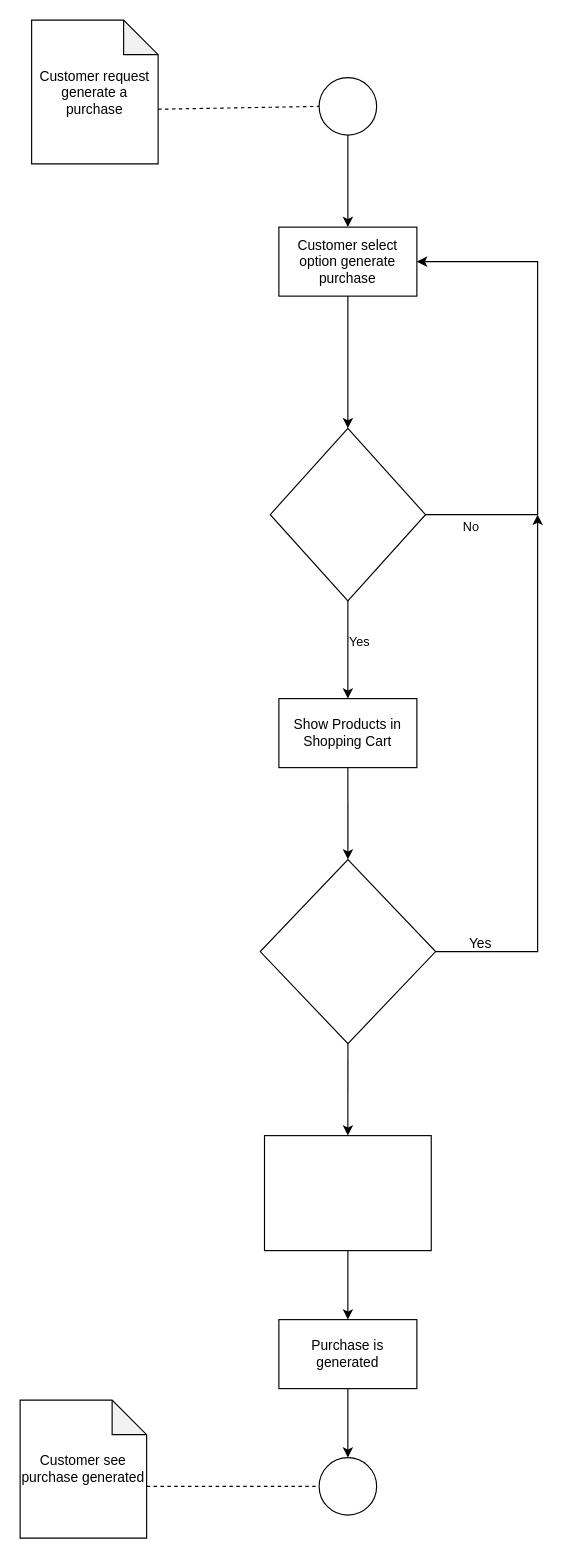
Some shapes in this 567 by 1558 pixel diagram are drawn without their labels. Each missing label, with the centre of its shape:
"Are products in Shopping cart?" goes at [347,514].
"Customer add : Full name Age Address Country" goes at [347,1192].
"is there all products that customers wants to buy?" goes at [347,951].
